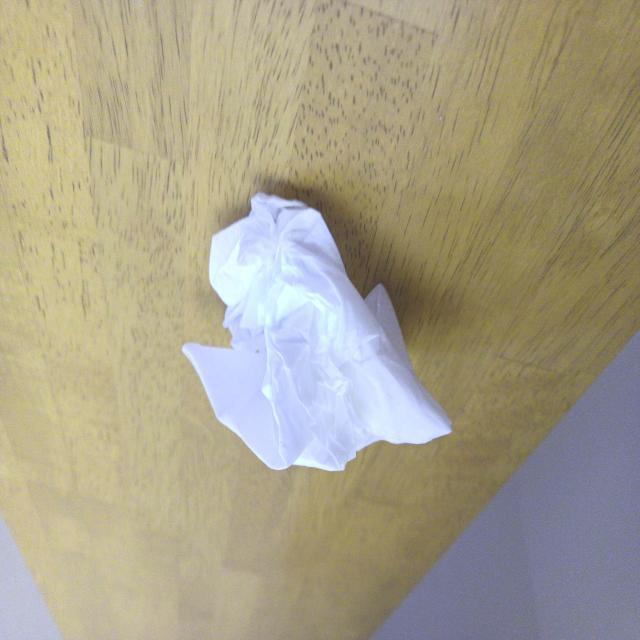Paper: (207, 203, 454, 471)
